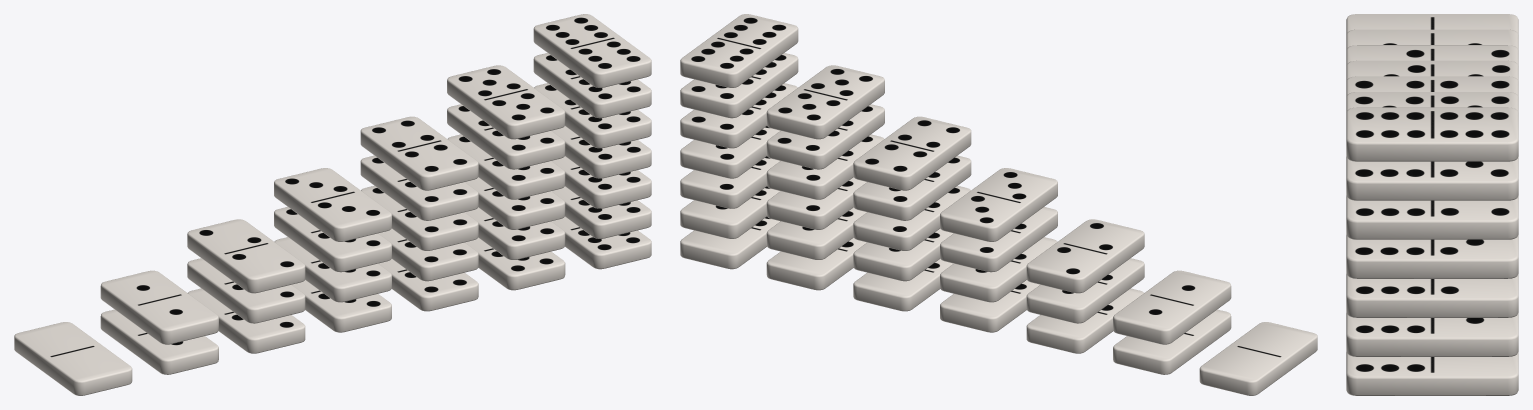
File: Dominoes3.glb
3 views of the same model, side by side, from view 1: azimuth 30°, elevation 25°; view 2: azimuth 150°, elevation 25°; view 3: azimuth 270°, elevation 25° (orthographic). The views are drawn at different scales.
Parts seen in each view (by area): view 1: domino_root_4_4, domino_root_2_2, domino_root_5_5, domino_root_1_1, domino_root_6_6, domino_root_0_0, domino_root_3_3, domino_root_1_2, domino_root_3_4, domino_root_0_1, domino_root_4_5, domino_root_5_6 (+16 smaller); view 2: domino_root_4_4, domino_root_2_2, domino_root_5_5, domino_root_1_1, domino_root_6_6, domino_root_0_0, domino_root_3_3, domino_root_1_2, domino_root_3_4, domino_root_0_1, domino_root_4_5, domino_root_5_6 (+16 smaller); view 3: domino_root_6_6, domino_root_5_6, domino_root_4_6, domino_root_3_6, domino_root_2_6, domino_root_1_6, domino_root_0_6, domino_root_3_3, domino_root_1_1, domino_root_5_5, domino_root_2_2, domino_root_4_4 (+1 smaller).
Boxes of the visible parts, box(x1,y1,x2,y2) form: domino_root_4_4: box(360, 116, 478, 190); domino_root_2_2: box(187, 219, 305, 293); domino_root_5_5: box(447, 65, 565, 139); domino_root_1_1: box(100, 270, 218, 344); domino_root_6_6: box(533, 14, 651, 87); domino_root_0_0: box(14, 322, 132, 395); domino_root_3_3: box(274, 168, 391, 241); domino_root_1_2: box(187, 258, 305, 323); domino_root_3_4: box(360, 155, 478, 220); domino_root_0_1: box(100, 309, 218, 374); domino_root_4_5: box(447, 104, 565, 169); domino_root_5_6: box(533, 53, 651, 118); domino_root_4_4: box(853, 116, 971, 190); domino_root_2_2: box(1026, 219, 1144, 293); domino_root_5_5: box(766, 65, 884, 139); domino_root_1_1: box(1113, 270, 1231, 344); domino_root_6_6: box(680, 14, 798, 87); domino_root_0_0: box(1199, 322, 1317, 395); domino_root_3_3: box(940, 168, 1057, 241); domino_root_1_2: box(1026, 258, 1144, 323); domino_root_3_4: box(853, 155, 971, 220); domino_root_0_1: box(1113, 309, 1231, 374); domino_root_4_5: box(766, 104, 884, 169); domino_root_5_6: box(680, 53, 798, 118); domino_root_6_6: box(1346, 107, 1518, 161); domino_root_5_6: box(1346, 156, 1518, 200); domino_root_4_6: box(1346, 195, 1518, 239); domino_root_3_6: box(1346, 235, 1518, 278); domino_root_2_6: box(1346, 274, 1518, 317); domino_root_1_6: box(1346, 313, 1518, 356); domino_root_0_6: box(1346, 352, 1518, 395); domino_root_3_3: box(1346, 60, 1518, 81); domino_root_1_1: box(1346, 29, 1518, 49); domino_root_5_5: box(1346, 92, 1518, 112); domino_root_2_2: box(1346, 45, 1518, 65); domino_root_4_4: box(1346, 76, 1518, 96).
Size of the model in its own units: 20 by 6.5 by 4.
Materials: 2 (2 with a texture image).
